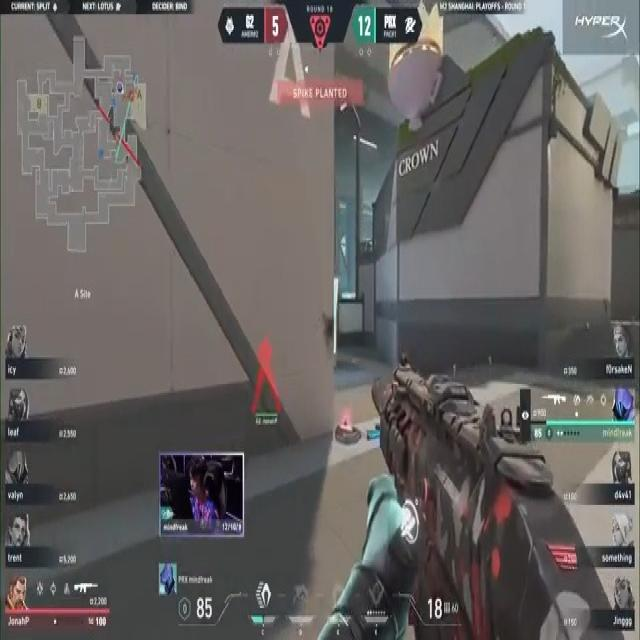enemy behind wall: (252, 331, 282, 418)
